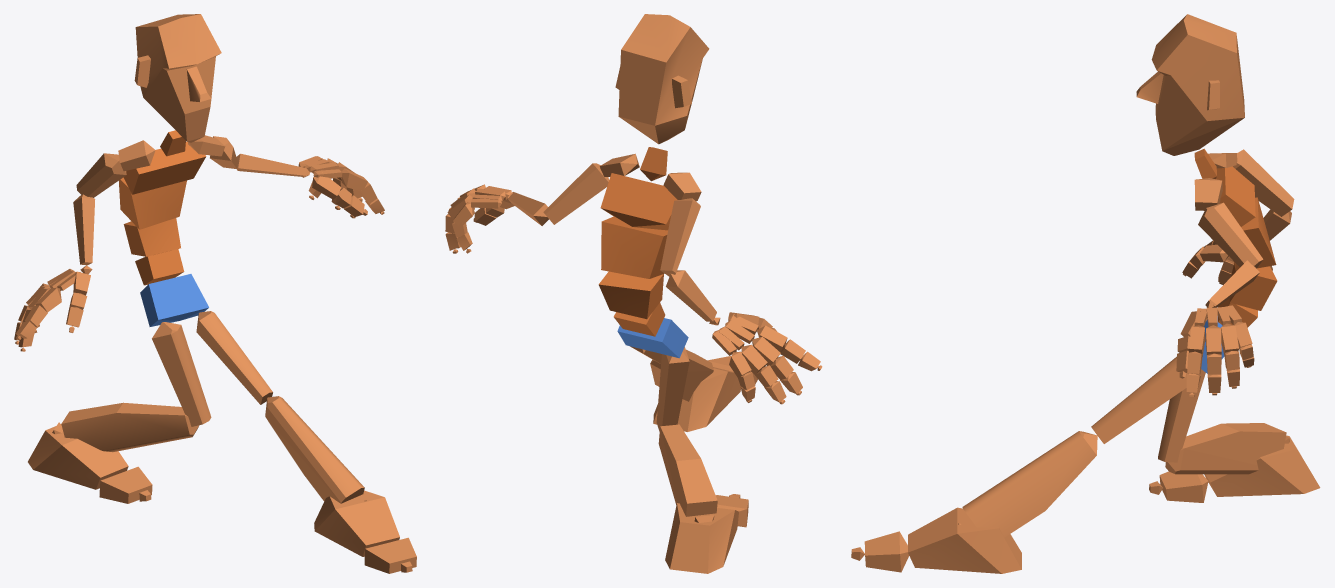
The picture shows the model from 3 angles, left to right: view 1: azimuth 30°, elevation 25°; view 2: azimuth 150°, elevation 25°; view 3: azimuth 270°, elevation 25°; orthographic projection. The views are drawn at different scales.
Visible parts, largest first — view 1: BOPED_Head, BOPED_R_leg, BOPED_L_leg, BOPED_R_foot01, BOPED_R_foot, BOPED_R_legup, Bone01, BOPED_L_legup, Bone04, Bone05, Bone03, BOPED_R_foot_toe01 (+7 smaller); view 2: BOPED_Head, BOPED_R_foot, BOPED_R_leg, Bone04, Bone05, BOPED_R_foot01, Bone03, BOPED_R_legup, BOPED_R_arm_upper, BOPED_L_arm_upper, Bone01, BOPED_R_arm_fore (+7 smaller); view 3: BOPED_Head, BOPED_L_leg, BOPED_R_foot01, BOPED_R_leg, BOPED_R_foot, BOPED_L_legup, BOPED_L_arm_upper, BOPED_R_legup, BOPED_R_arm_upper, Bone05, BOPED_R_foot_toe04, BOPED_R_foot_toe01 (+4 smaller).
Boxes of the visible parts, left/top/right/bottom form: BOPED_Head: left=134, top=14, right=221, bottom=142; BOPED_R_leg: left=61, top=402, right=199, bottom=452; BOPED_L_leg: left=265, top=396, right=364, bottom=503; BOPED_R_foot01: left=314, top=490, right=399, bottom=556; BOPED_R_foot: left=28, top=424, right=128, bottom=489; BOPED_R_legup: left=152, top=322, right=211, bottom=426; Bone01: left=140, top=274, right=208, bottom=326; BOPED_L_legup: left=196, top=311, right=272, bottom=404; Bone04: left=119, top=177, right=186, bottom=229; Bone05: left=123, top=141, right=206, bottom=194; Bone03: left=123, top=218, right=180, bottom=256; BOPED_R_foot_toe01: left=99, top=466, right=152, bottom=503; BOPED_Head: left=615, top=14, right=709, bottom=144; BOPED_R_foot: left=665, top=503, right=738, bottom=573; BOPED_R_leg: left=658, top=424, right=717, bottom=516; Bone04: left=601, top=216, right=667, bottom=278; Bone05: left=600, top=173, right=677, bottom=230; BOPED_R_foot01: left=653, top=367, right=740, bottom=431; Bone03: left=598, top=271, right=663, bottom=319; BOPED_R_legup: left=656, top=347, right=689, bottom=431; BOPED_R_arm_upper: left=660, top=198, right=700, bottom=276; BOPED_L_arm_upper: left=543, top=163, right=609, bottom=224; Bone01: left=617, top=318, right=688, bottom=358; BOPED_R_arm_fore: left=666, top=270, right=716, bottom=321; BOPED_Head: left=1136, top=14, right=1244, bottom=155; BOPED_L_leg: left=962, top=431, right=1097, bottom=537; BOPED_R_foot01: left=908, top=507, right=1021, bottom=573; BOPED_R_leg: left=1165, top=423, right=1286, bottom=474; BOPED_R_foot: left=1204, top=435, right=1320, bottom=496; BOPED_L_legup: left=1091, top=356, right=1195, bottom=443; BOPED_L_arm_upper: left=1198, top=202, right=1263, bottom=268; BOPED_R_legup: left=1158, top=352, right=1205, bottom=462; BOPED_R_arm_upper: left=1233, top=149, right=1294, bottom=216; Bone05: left=1216, top=166, right=1255, bottom=226; BOPED_R_foot_toe04: left=864, top=531, right=909, bottom=572; BOPED_R_foot_toe01: left=1159, top=471, right=1208, bottom=502.
Bounding box in the file's own units: 130 × 160 × 136.
